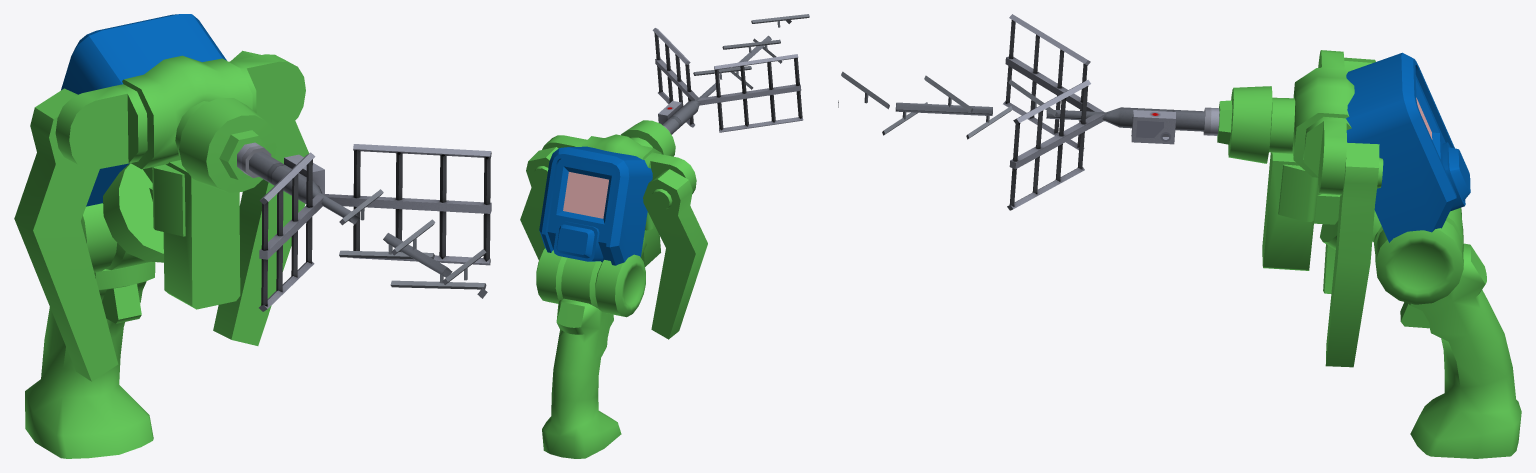
The model's file is Fant_Remotegun.fbx.
The picture shows the model from 3 angles, left to right: view 1: azimuth 30°, elevation 25°; view 2: azimuth 150°, elevation 25°; view 3: azimuth 270°, elevation 25°; orthographic projection. The views are drawn at different scales.
Parts seen in each view (by area): view 1: char_connecttool_geoMesh; view 2: char_connecttool_geoMesh; view 3: char_connecttool_geoMesh.
Part boxes in pixels (<box>): char_connecttool_geoMesh: <box>14,14,491,458</box>; char_connecttool_geoMesh: <box>520,14,809,458</box>; char_connecttool_geoMesh: <box>838,14,1521,458</box>.
Size of the model in its own units: 0.9791 by 1.51 by 2.38.
